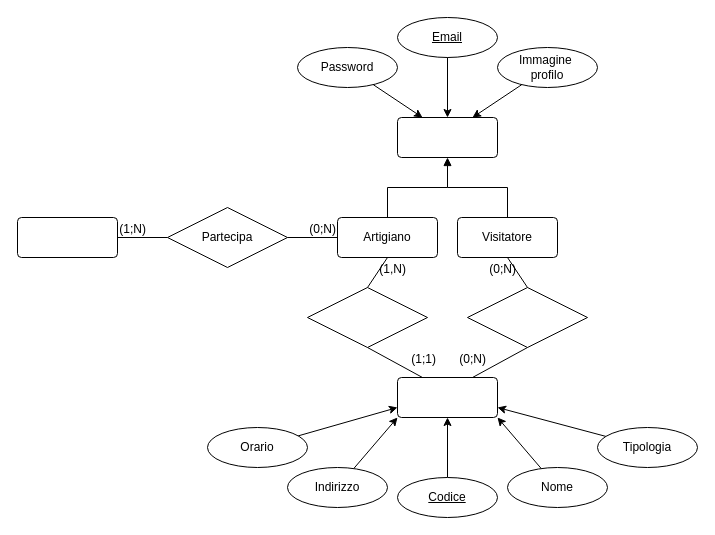
The diagram is 715 pixels wide and 535 high, and some of its shapes have lost their labels. The shapes that lost their labels are listed below. From the top down, each one's centre as x and y in pixels, then its label:
At point (447, 137): "Utente".
At point (67, 237): "Evento".
At point (367, 317): "Promuove".
At point (527, 317): "Salva".
At point (447, 397): "Negozio".
